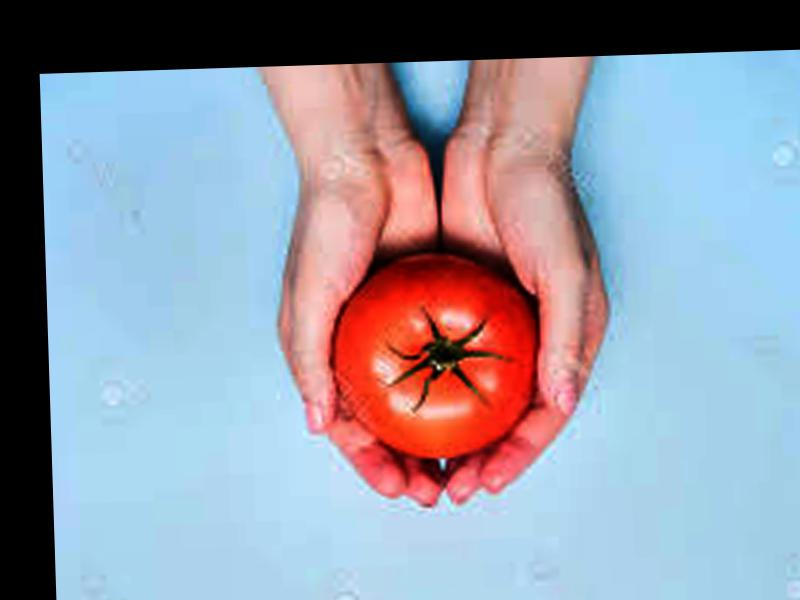Tomato: (329, 251, 547, 461)
